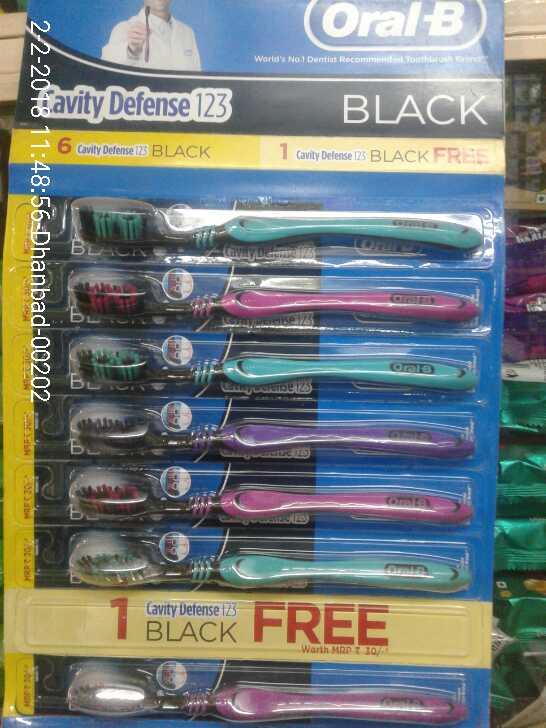oralb: (58, 530, 447, 612), (61, 187, 482, 262), (48, 657, 461, 728), (73, 328, 473, 400), (69, 466, 480, 532), (68, 267, 480, 328), (69, 405, 479, 463)
